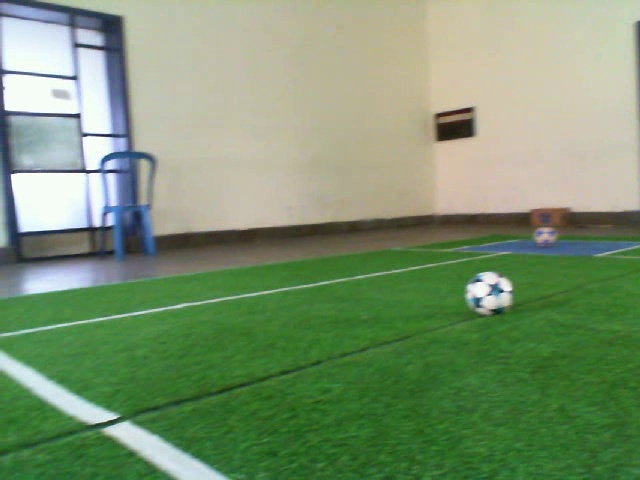ball: (463, 268, 516, 320), (530, 223, 560, 250)
